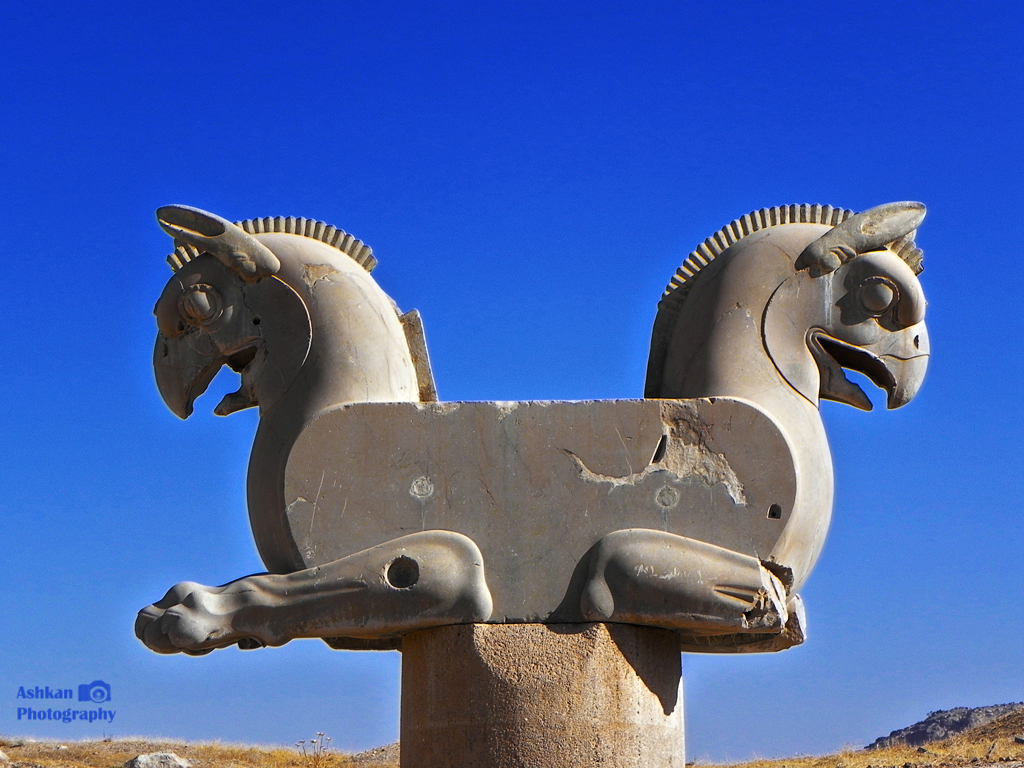Animal: (135, 202, 492, 651), (584, 194, 933, 648)
